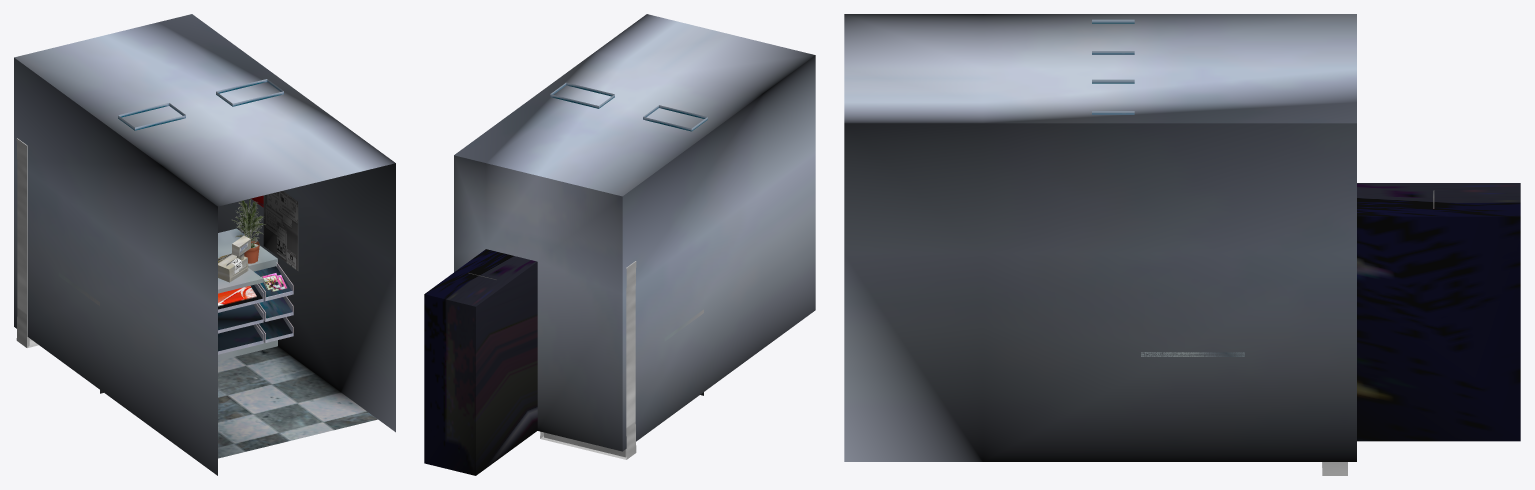
The model's file is shopver3.gltf.
3 renders of one model, left to right at view 1: azimuth 30°, elevation 25°; view 2: azimuth 150°, elevation 25°; view 3: azimuth 270°, elevation 25°, orthographic. The views are drawn at different scales.
Visible parts, largest first — view 1: room, gomboc.001; view 2: room; view 3: room.
Boxes of the visible parts, x1,y1,x2,y2 form: room: [14, 14, 395, 475]; gomboc.001: [218, 286, 256, 306]; room: [424, 14, 815, 475]; room: [844, 14, 1520, 475].
Bounding box in the file's own units: 5.56 × 8.43 × 14.48.
Materials: 8 (7 with a texture image).
